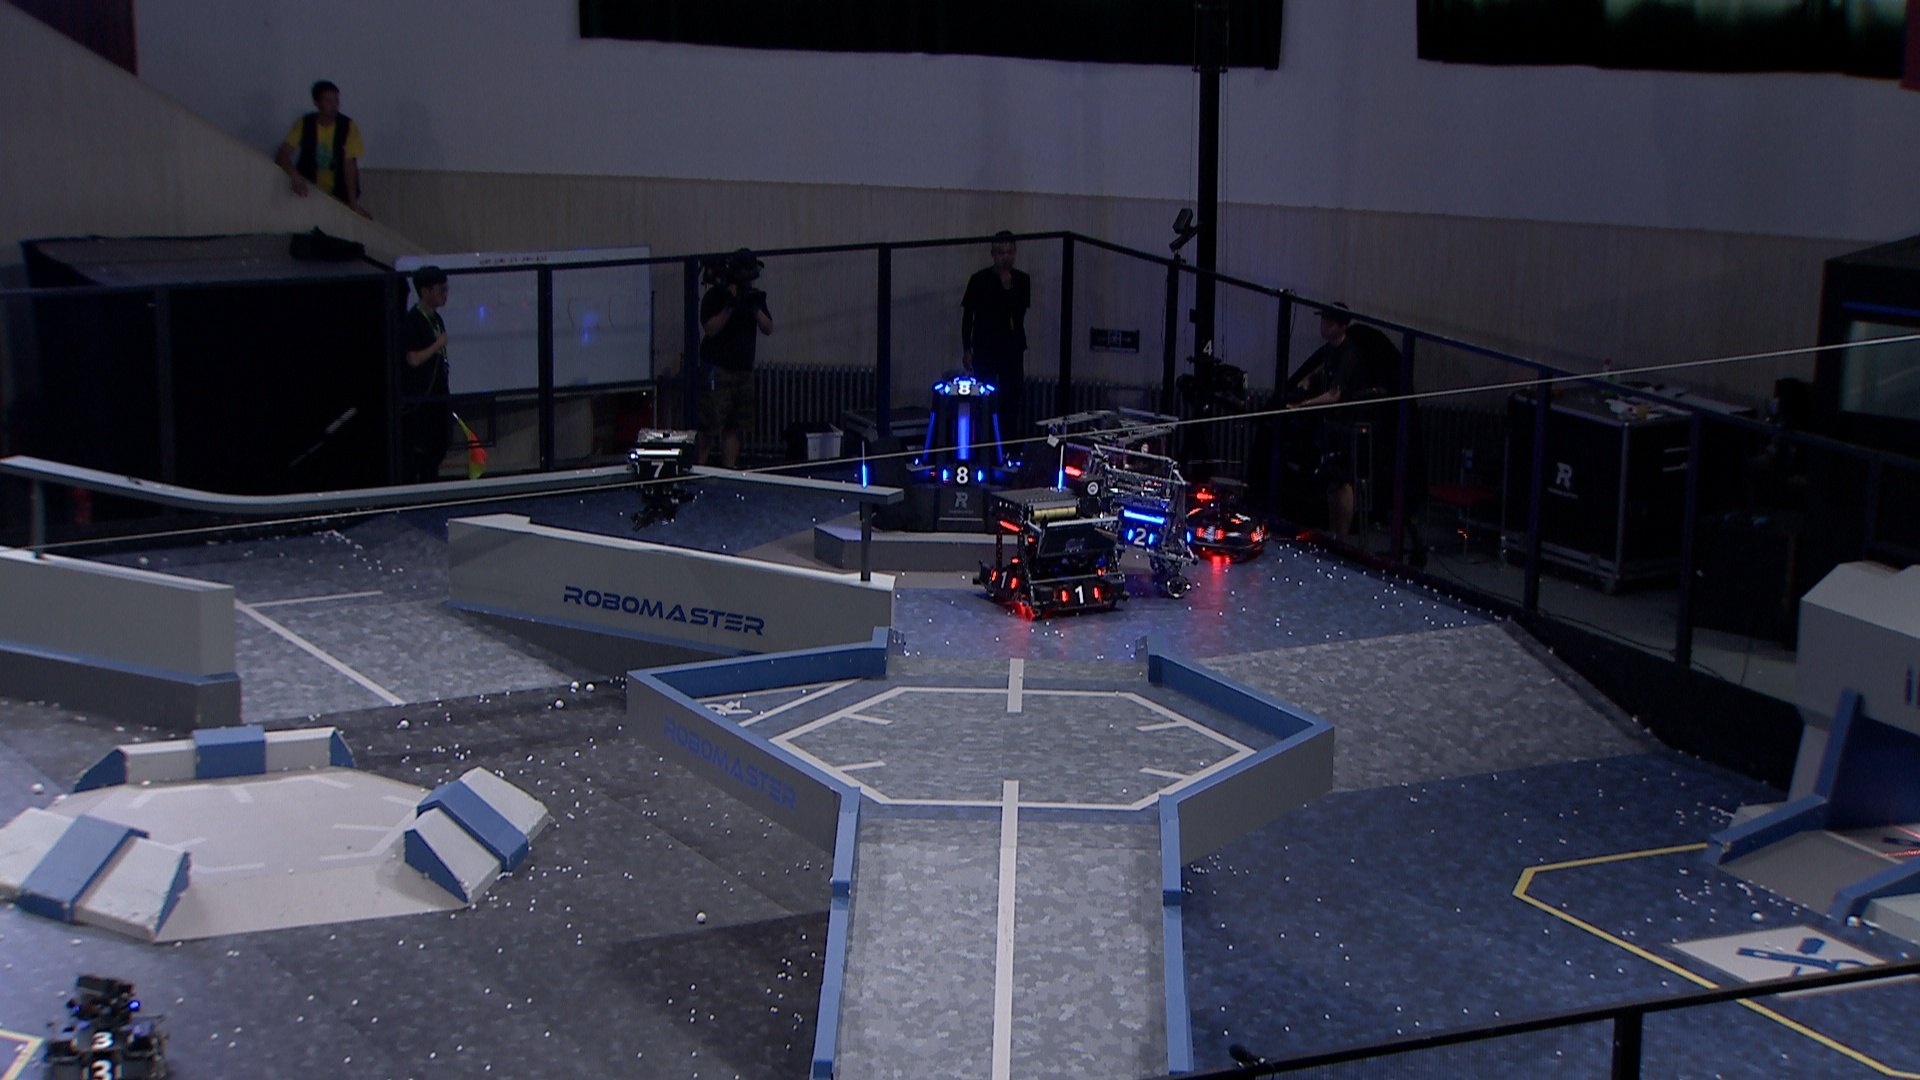armor: (69, 1029, 138, 1054), (632, 458, 683, 480), (953, 414, 977, 462), (920, 410, 940, 462), (1055, 583, 1102, 604), (82, 1058, 124, 1080), (942, 378, 989, 398), (938, 465, 984, 484), (992, 411, 1006, 463), (989, 568, 1021, 591), (146, 1036, 167, 1065), (1127, 526, 1154, 549), (1196, 524, 1222, 545), (1250, 522, 1269, 547), (1054, 469, 1068, 493), (858, 462, 870, 489)
base: (851, 372, 1076, 538)
car: (967, 481, 1130, 626), (1058, 444, 1196, 603), (1039, 398, 1176, 546), (36, 972, 178, 1080), (1178, 469, 1273, 564)
watcher: (622, 425, 698, 531)
